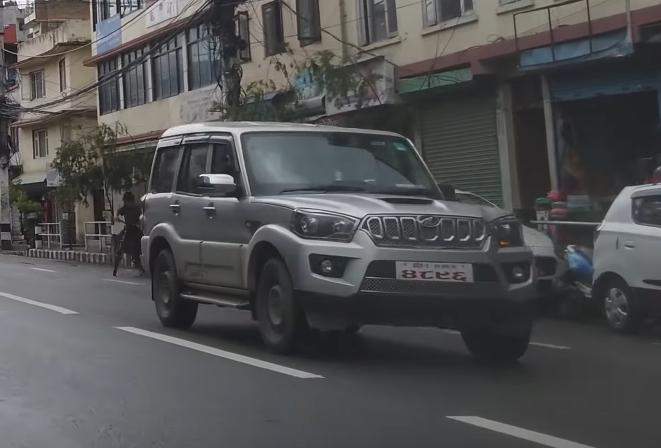SUV: (142, 117, 539, 364)
taxi: (583, 174, 661, 336)
